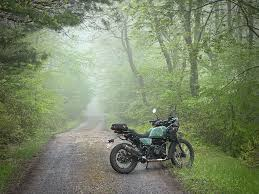motorcycle: (103, 109, 195, 178)
